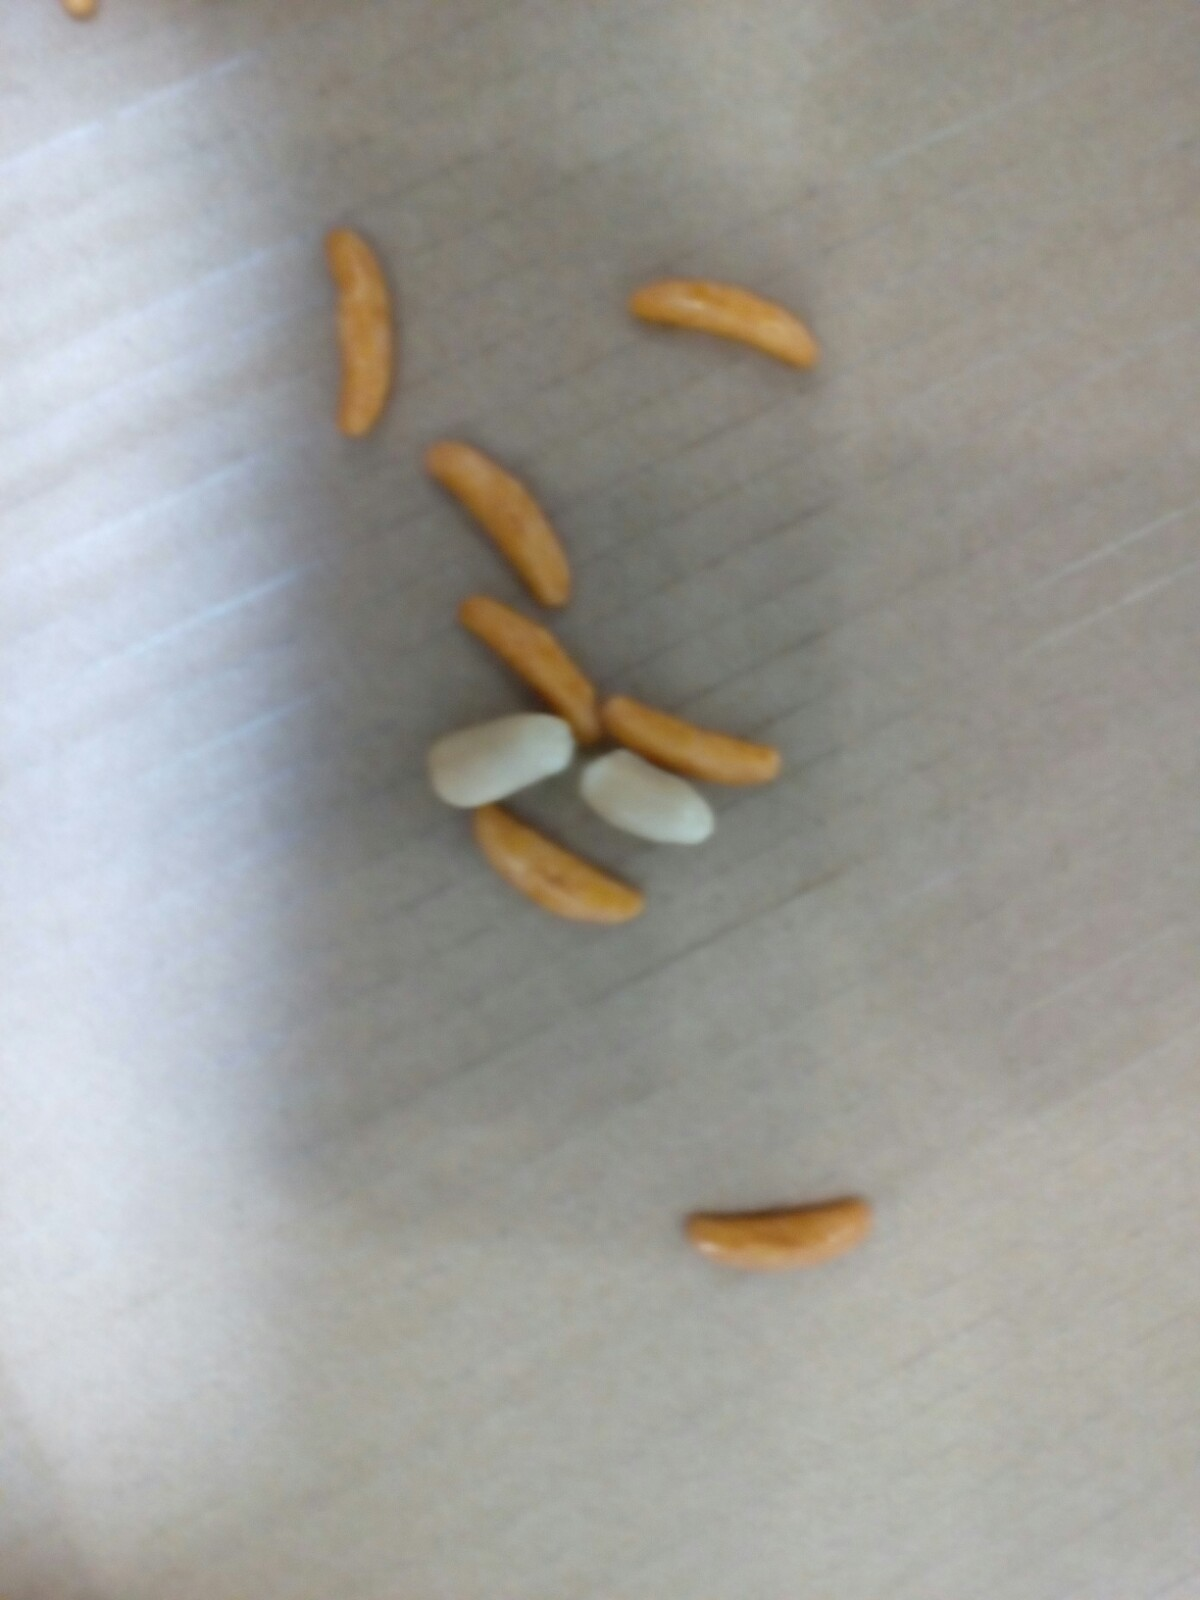peanut: (571, 731, 722, 855), (403, 695, 571, 808)
